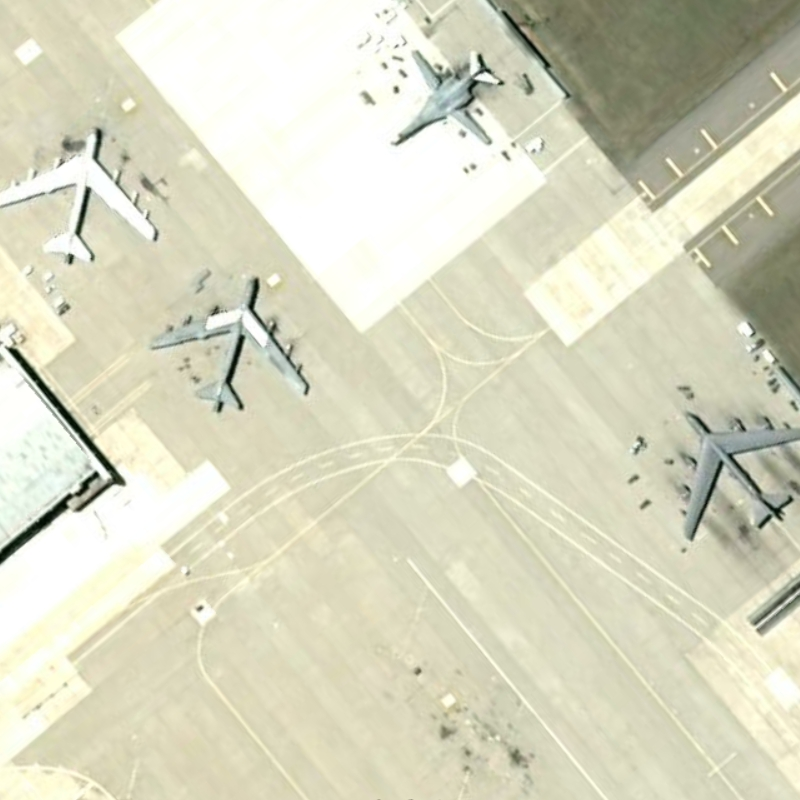A10: (381, 44, 510, 148)
A8: (143, 269, 317, 420), (4, 114, 168, 273), (672, 404, 800, 548)
